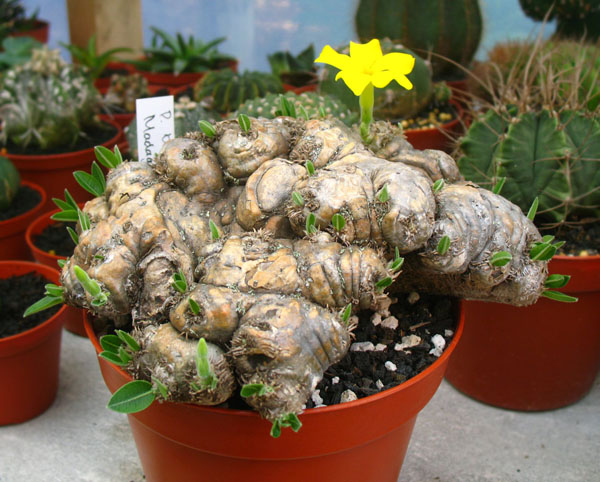Pachypodium brevicaule: (62, 103, 553, 406)
